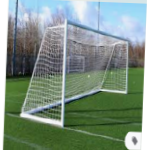goals: (17, 16, 132, 129)
